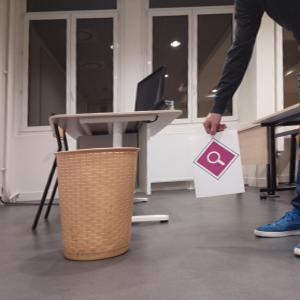medium: (54, 150, 138, 262)
